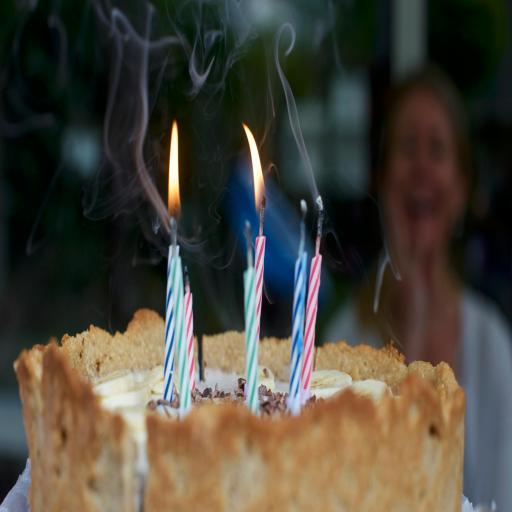candlelight: (153, 109, 197, 412), (237, 108, 275, 416)
